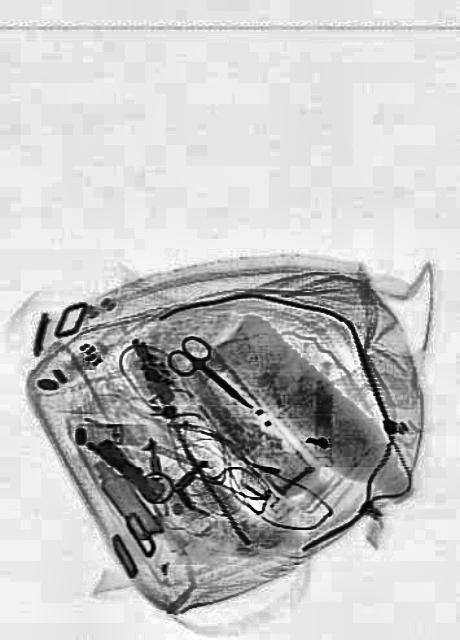Scissors: (163, 324, 261, 426)
